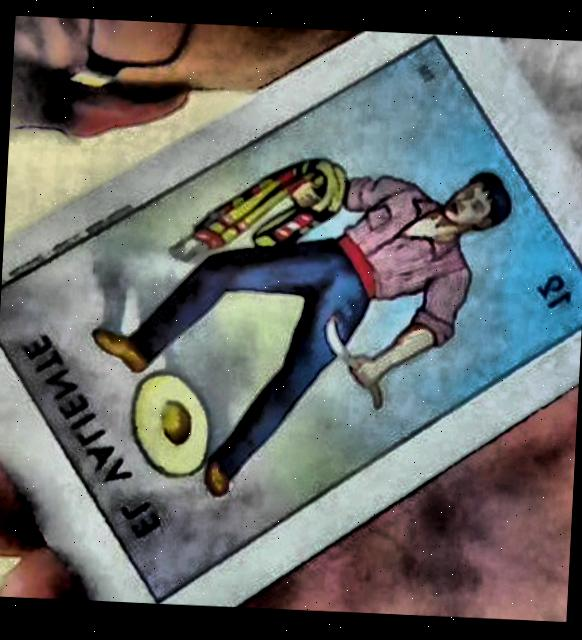El Valiente: (0, 37, 582, 602)
